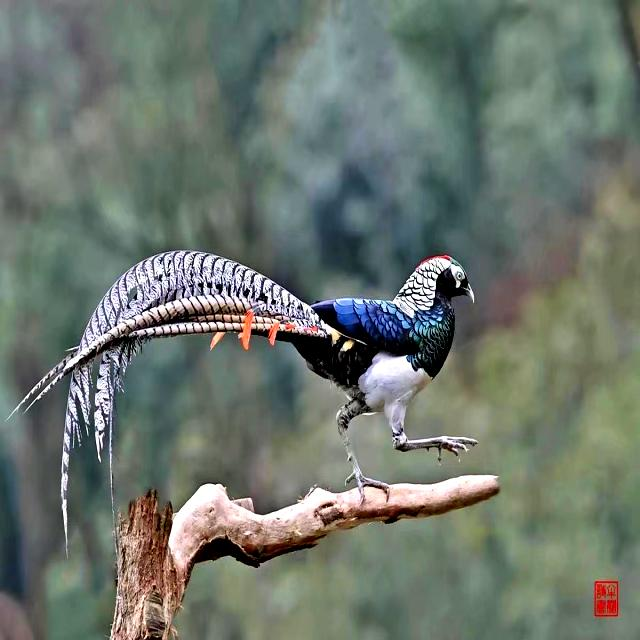Chrysolophus amherstiae: (21, 251, 330, 544)
